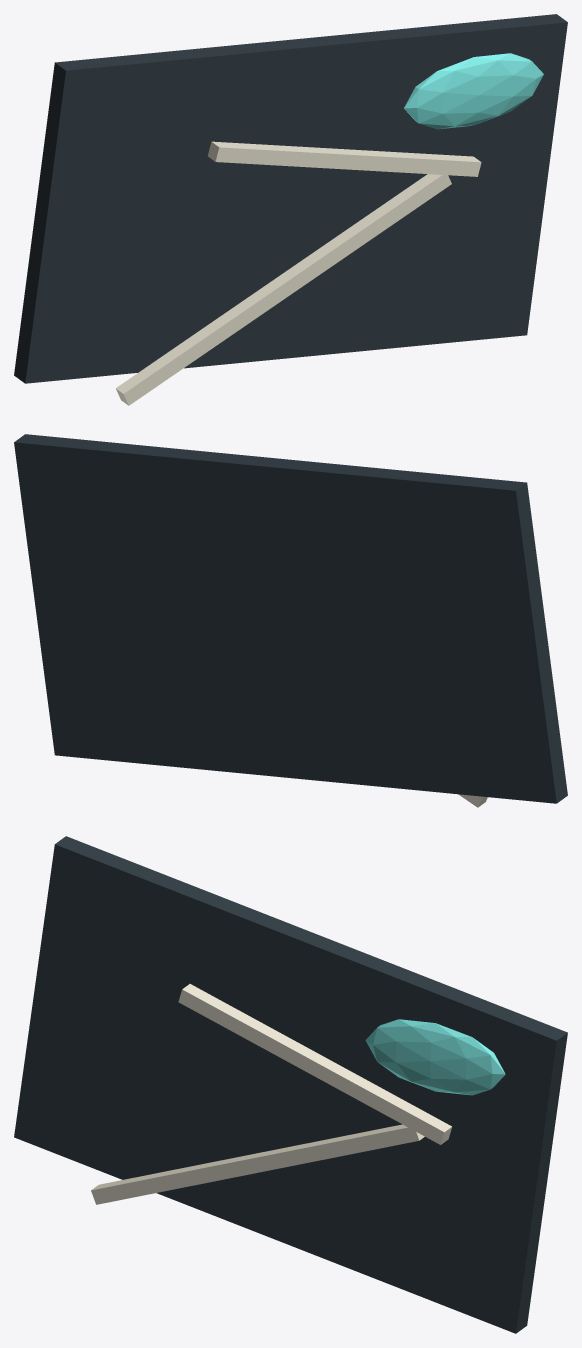
The model's file is 05_weathering_wear_overlay_5.glb.
3 renders of one model, top to bottom at view 1: azimuth 30°, elevation 25°; view 2: azimuth 150°, elevation 25°; view 3: azimuth 330°, elevation 25°, orthographic.
Parts seen in each view (by area): view 1: wear_plate, scratch_a, rust_or_moss_spot, scratch_b; view 2: wear_plate; view 3: wear_plate, rust_or_moss_spot, scratch_b, scratch_a.
Part boxes in pixels (x1,y1,x2,y2): wear_plate: [14, 14, 567, 383]; scratch_a: [116, 174, 451, 405]; rust_or_moss_spot: [404, 53, 543, 129]; scratch_b: [208, 141, 481, 176]; wear_plate: [14, 434, 567, 803]; wear_plate: [14, 836, 567, 1333]; rust_or_moss_spot: [365, 1019, 505, 1095]; scratch_b: [178, 984, 451, 1144]; scratch_a: [91, 1124, 424, 1204].
Bounding box in the file's own units: 1.39 × 0.9241 × 0.134.
